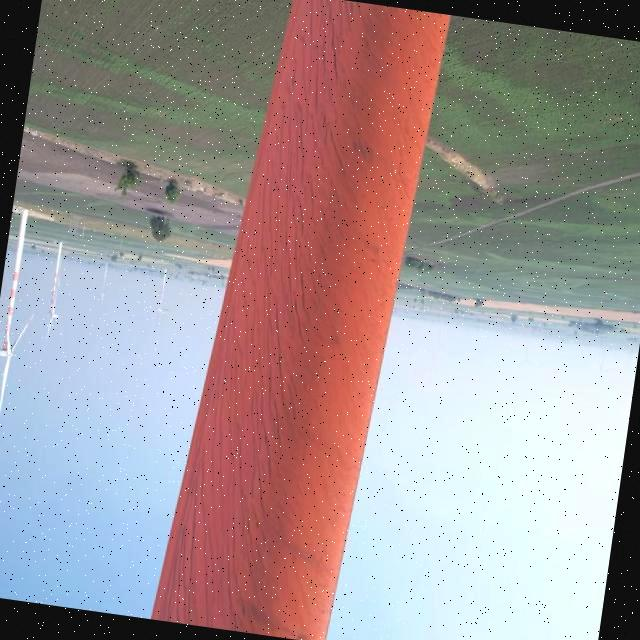Dirt: (153, 0, 446, 633)
